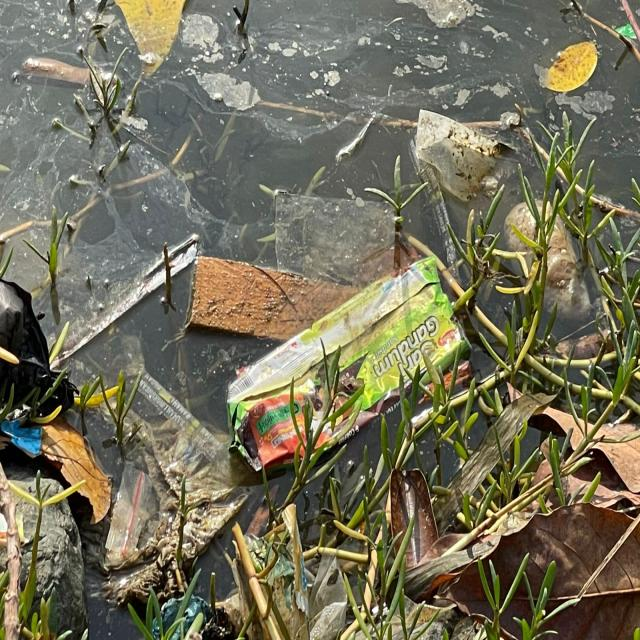Bungkus Makanan: (226, 255, 470, 473)
Kantong Plastik: (268, 183, 406, 283), (413, 107, 517, 200)
